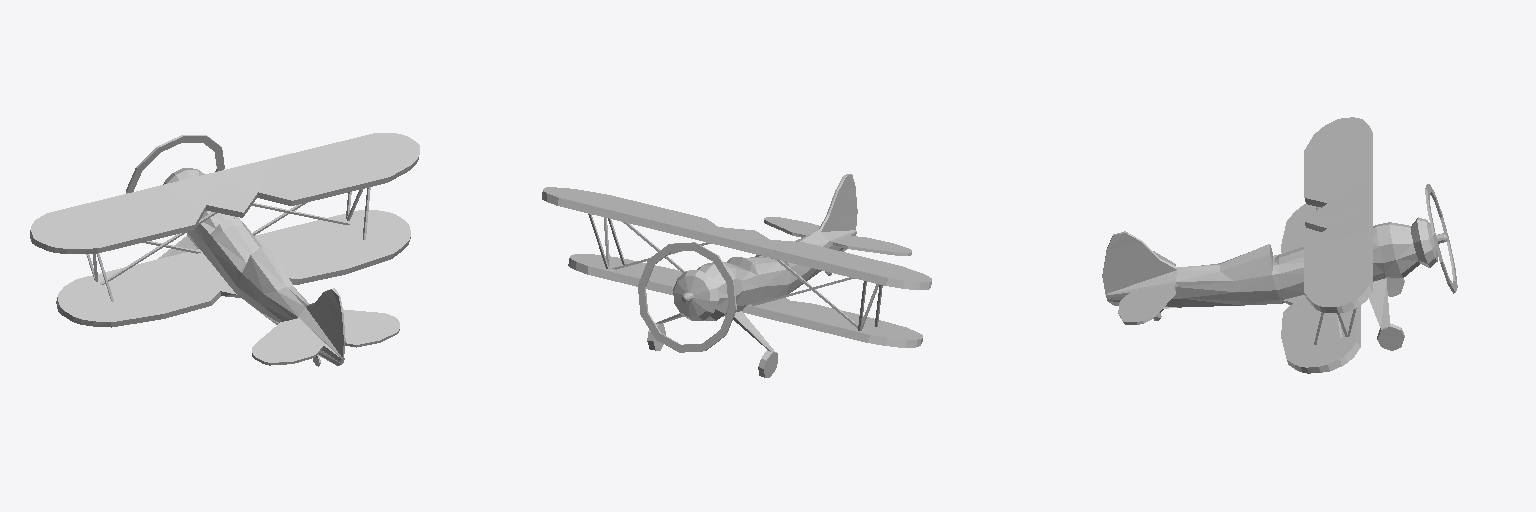
The model's file is WACF.obj.
3 renders of one model, left to right at view 1: azimuth 30°, elevation 25°; view 2: azimuth 150°, elevation 25°; view 3: azimuth 270°, elevation 25°, orthographic.
Parts seen in each view (by area): view 1: WACF_Circle.004; view 2: WACF_Circle.004; view 3: WACF_Circle.004.
Boxes of the visible parts, x1,y1,x2,y2 form: WACF_Circle.004: [30, 133, 419, 366]; WACF_Circle.004: [542, 174, 931, 377]; WACF_Circle.004: [1102, 117, 1457, 373].
Bounding box in the file's own units: 9.1 × 3.04 × 7.28.